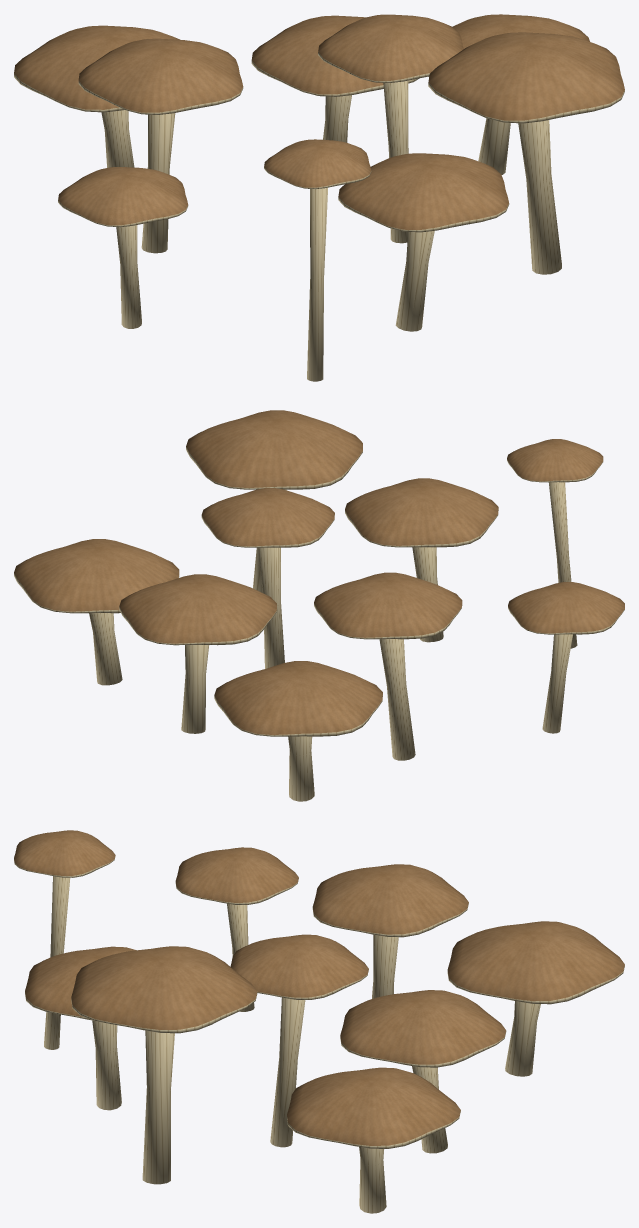
File: Deadwood_Mushroom_Cluster_01_LOD0.fbx
The picture shows the model from 3 angles, top to bottom: view 1: azimuth 30°, elevation 25°; view 2: azimuth 150°, elevation 25°; view 3: azimuth 270°, elevation 25°; orthographic projection. The views are drawn at different scales.
Visible parts, largest first — view 1: Deadwood_Mushroom_Cluster_01_LOD0_Mesh; view 2: Deadwood_Mushroom_Cluster_01_LOD0_Mesh; view 3: Deadwood_Mushroom_Cluster_01_LOD0_Mesh.
Boxes of the visible parts, x1=… form: Deadwood_Mushroom_Cluster_01_LOD0_Mesh: x1=14, y1=14, x2=624, y2=381; Deadwood_Mushroom_Cluster_01_LOD0_Mesh: x1=14, y1=410, x2=624, y2=801; Deadwood_Mushroom_Cluster_01_LOD0_Mesh: x1=14, y1=830, x2=624, y2=1213.
Size of the model in its own units: 30.13 by 11.08 by 28.43.
2 materials, 2 textured.
